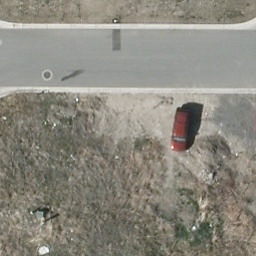car: (172, 108, 194, 153)
